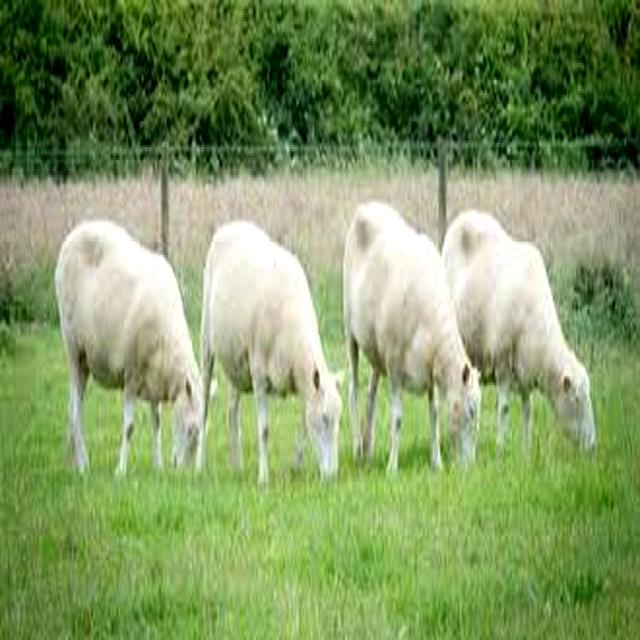sheep: (201, 220, 346, 486), (339, 206, 480, 479), (54, 225, 203, 482), (441, 215, 596, 454)
